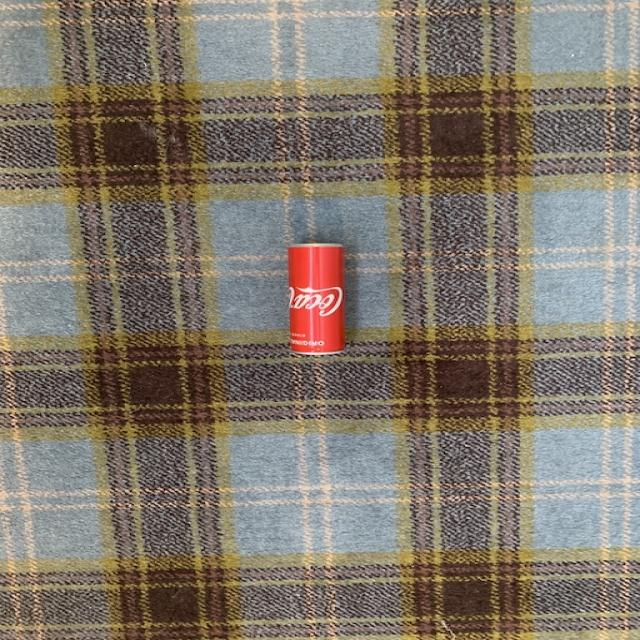litter: (288, 246, 357, 356)
